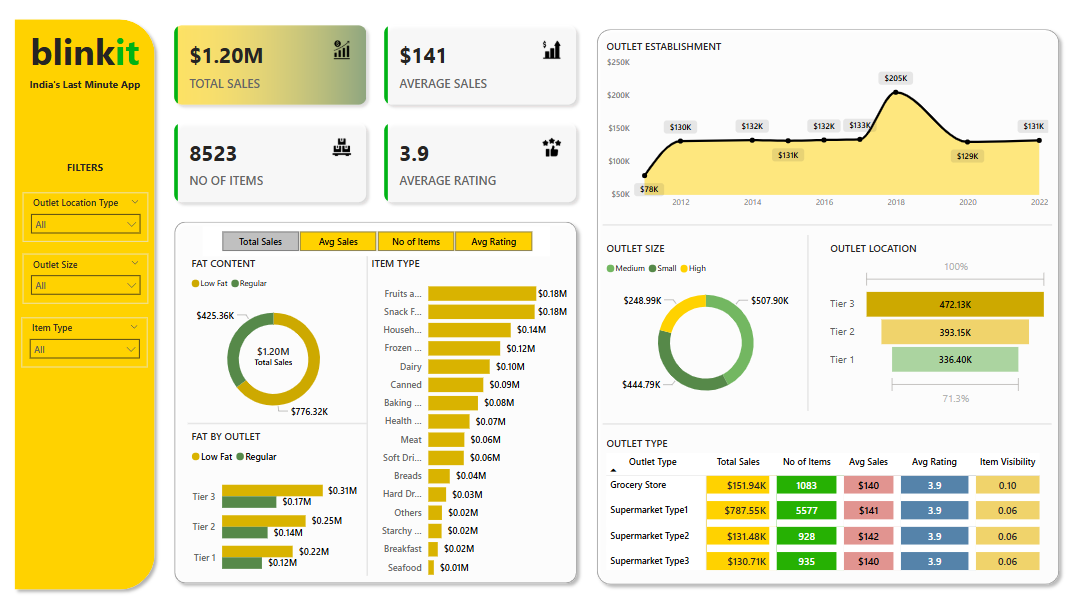

The dashboard page shown, as its layout file describes it:
{"tool":"powerbi","page":{"name":"Page 1","canvas":[1440,810],"ordinal":0},"visuals":[{"type":"shape","box":[11.7,16.7,205,778.3],"z":0},{"type":"textbox","box":[265,740,205,55],"z":1000},{"type":"textbox","box":[11.7,30,205,83.3],"z":2000},{"type":"textbox","box":[11.5,97.7,205.4,30],"z":3000},{"type":"cardVisual","fields":{"Data":["BlinkIT Grocery Data.Total Sales","BlinkIT Grocery Data.Avg Sales","BlinkIT Grocery Data.No of Items","BlinkIT Grocery Data.Avg Rating"]},"box":[217.1,17.1,570,270],"z":4000},{"type":"shape","box":[225.7,287.1,554.3,500],"z":5000},{"type":"donutChart","title":"FAT CONTENT","fields":{"Y":["BlinkIT Grocery Data.Total Sales"],"Category":["BlinkIT Grocery Data.Item Fat Content"]},"box":[251.4,341.4,230,230],"z":6000},{"type":"slicer","fields":{"Values":["Metrics.Metrics"]},"box":[271.4,301.4,462.9,40],"z":7000},{"type":"cardVisual","fields":{"Data":["BlinkIT Grocery Data.Total Sales"]},"box":[316.6,442.2,98.1,54.9],"z":8000},{"type":"clusteredBarChart","title":"FAT BY OUTLET","fields":{"Y":["BlinkIT Grocery Data.Total Sales"],"Category":["BlinkIT Grocery Data.Outlet Location Type"],"Series":["BlinkIT Grocery Data.Item Fat Content"]},"box":[250.8,571.7,230.8,210],"z":9000},{"type":"shape","box":[251,552,240,26],"z":10000},{"type":"shape","box":[470,342,42,426],"z":11000},{"type":"barChart","title":"ITEM TYPE","fields":{"Y":["BlinkIT Grocery Data.Total Sales"],"Category":["BlinkIT Grocery Data.Item Type"]},"box":[490.9,341.8,270.9,440],"z":12000},{"type":"shape","box":[788.6,30,634.3,758.6],"z":13000},{"type":"lineChart","title":"OUTLET ESTABLISHMENT","fields":{"Category":["BlinkIT Grocery Data.Outlet Establishment Year"],"Y":["BlinkIT Grocery Data.Total Sales"]},"box":[805.4,51.5,599.2,235.4],"z":14000},{"type":"shape","box":[805.5,287.3,599.1,26.4],"z":15000},{"type":"donutChart","title":"OUTLET SIZE","fields":{"Y":["BlinkIT Grocery Data.Total Sales"],"Category":["BlinkIT Grocery Data.Outlet Size"]},"box":[805.7,322.4,275.7,225.7],"z":16000},{"type":"shape","box":[1074.3,312.9,7.1,234.3],"z":17000},{"type":"funnel","title":"OUTLET LOCATION","fields":{"Y":["Sum(BlinkIT Grocery Data.Sales)"],"Category":["BlinkIT Grocery Data.Outlet Location Type"]},"box":[1102.9,322.4,300,224.3],"z":18000},{"type":"shape","box":[805.7,551.4,598.6,27.1],"z":19000},{"type":"pivotTable","title":"OUTLET TYPE","fields":{"Rows":["BlinkIT Grocery Data.Outlet Type"],"Values":["BlinkIT Grocery Data.Total Sales","BlinkIT Grocery Data.No of Items","BlinkIT Grocery Data.Avg Sales","BlinkIT Grocery Data.Avg Rating","Avg(BlinkIT Grocery Data.Item Visibility)"]},"box":[805.7,581.4,598.6,217.1],"z":20000},{"type":"slicer","fields":{"Values":["BlinkIT Grocery Data.Outlet Location Type"]},"box":[30.8,255.8,167.5,65.8],"z":21000},{"type":"slicer","fields":{"Values":["BlinkIT Grocery Data.Outlet Size"]},"box":[31.2,338.8,167.5,66.2],"z":22000},{"type":"slicer","fields":{"Values":["BlinkIT Grocery Data.Item Type"]},"box":[30,423.6,168.2,66.4],"z":23000},{"type":"textbox","box":[10.8,207.5,205.8,37.5],"z":24000}]}

Visuals, with their boxes in screenshot pixels (x1, y1, x2, y2), scaled from the page's 1440x810 canvas onto the 1079x604 screenshot:
shape: BBox(9, 12, 162, 593)
textbox: BBox(199, 552, 352, 593)
textbox: BBox(9, 22, 162, 84)
textbox: BBox(9, 73, 163, 95)
cardVisual - BlinkIT Grocery Data.Total Sales x BlinkIT Grocery Data.Avg Sales: BBox(163, 13, 590, 214)
shape: BBox(169, 214, 584, 587)
"FAT CONTENT" donutChart: BBox(188, 255, 361, 426)
slicer - Metrics.Metrics: BBox(203, 225, 550, 255)
cardVisual - BlinkIT Grocery Data.Total Sales: BBox(237, 330, 311, 371)
"FAT BY OUTLET" clusteredBarChart: BBox(188, 426, 361, 583)
shape: BBox(188, 412, 368, 431)
shape: BBox(352, 255, 384, 573)
"ITEM TYPE" barChart: BBox(368, 255, 571, 583)
shape: BBox(591, 22, 1066, 588)
"OUTLET ESTABLISHMENT" lineChart: BBox(603, 38, 1052, 214)
shape: BBox(604, 214, 1052, 234)
"OUTLET SIZE" donutChart: BBox(604, 240, 810, 409)
shape: BBox(805, 233, 810, 408)
"OUTLET LOCATION" funnel: BBox(826, 240, 1051, 408)
shape: BBox(604, 411, 1052, 431)
"OUTLET TYPE" pivotTable: BBox(604, 434, 1052, 595)
slicer - BlinkIT Grocery Data.Outlet Location Type: BBox(23, 191, 149, 240)
slicer - BlinkIT Grocery Data.Outlet Size: BBox(23, 253, 149, 302)
slicer - BlinkIT Grocery Data.Item Type: BBox(22, 316, 149, 365)
textbox: BBox(8, 155, 162, 183)
